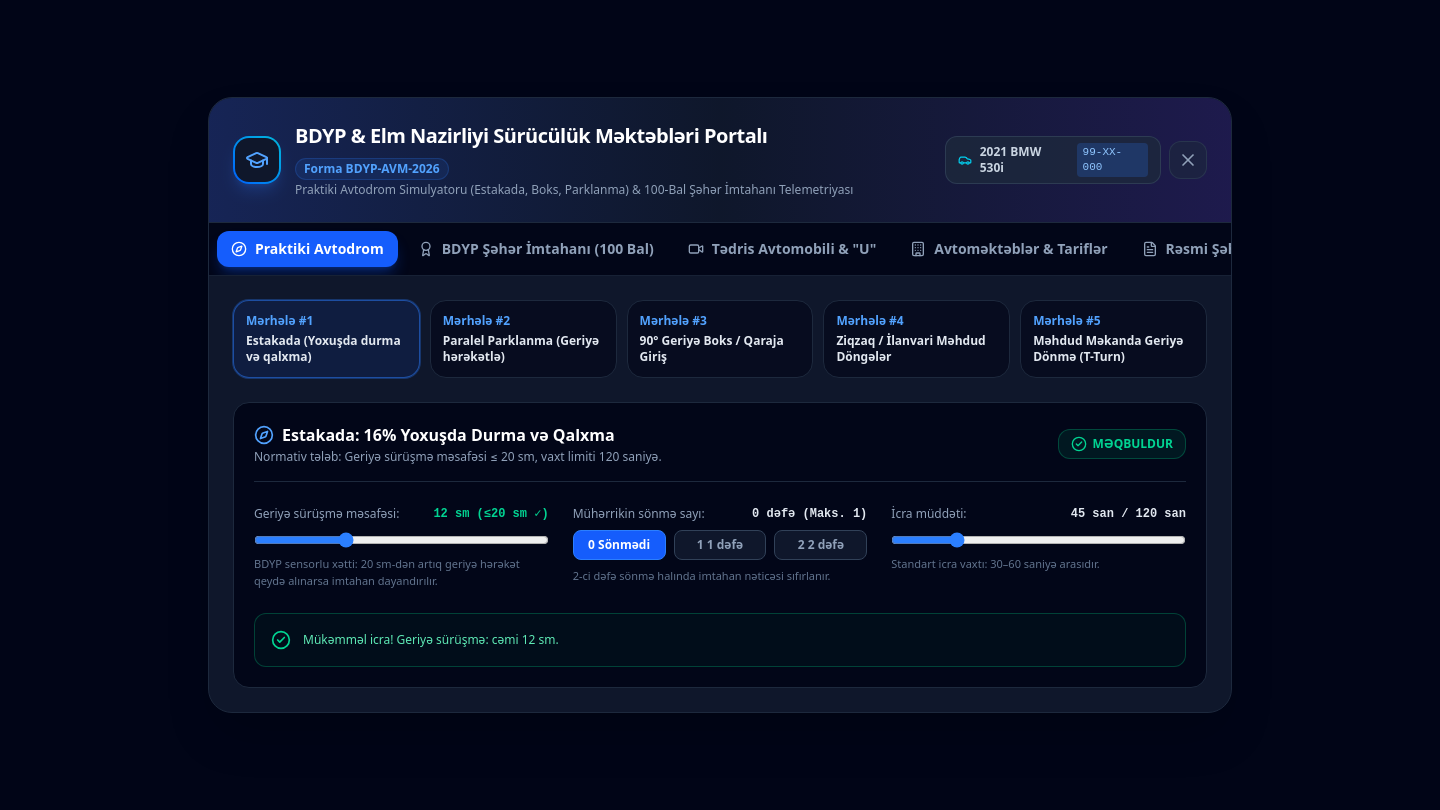
Test: DrivingSchoolModal Component › interacts with City Exam tab error items and updates score deductions
Click the button "BDYP Şəhər İmtahanı (100 Bal)". click: (536, 249)
box: [404,231,668,267]
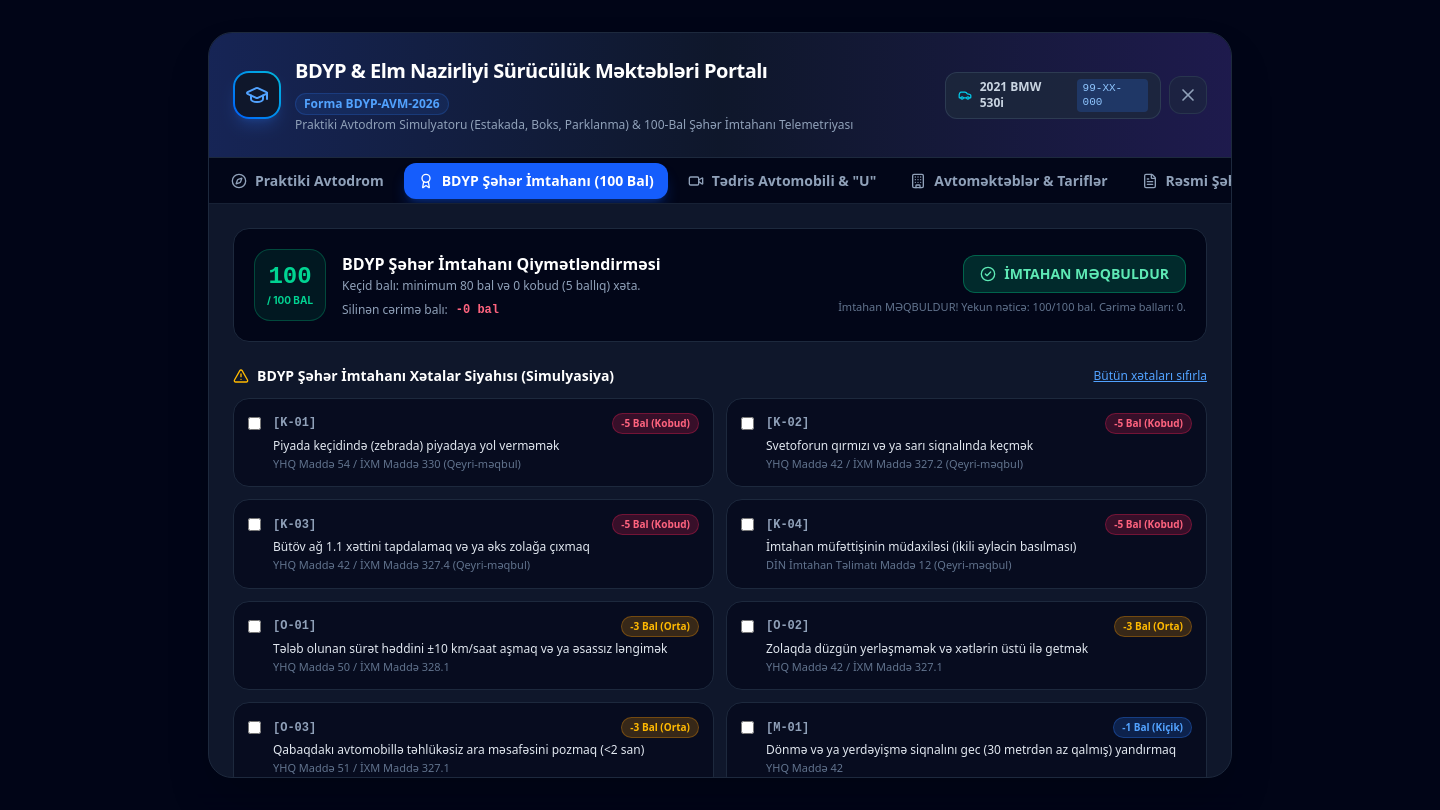
Now the text "100" is shown, box [268,261,312,293]
Click on critical error (zebra crossing)
Click the text "Piyada keçidində (zebrada) piyadaya yol verməmək". click: (416, 445)
box: [273,437,560,454]
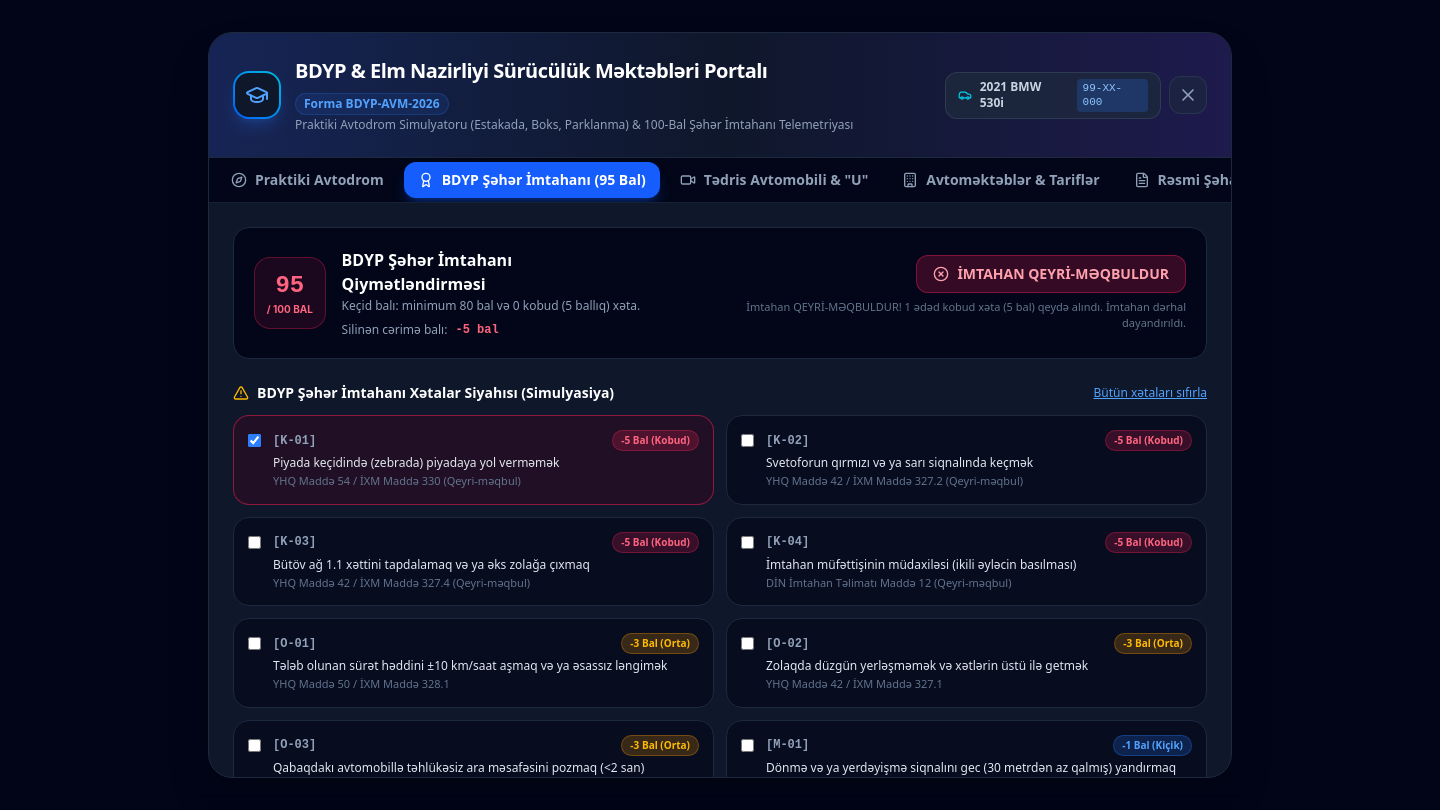
Now the text "95" is shown, box [275,270,304,302]
Now the text "İMTAHAN QEYRİ-MƏQBULDUR" is shown, box [916,255,1186,293]
Reset errors
Click the button "Bütün xətaları sıfırla". click: (1150, 393)
box: [1094,385,1207,401]
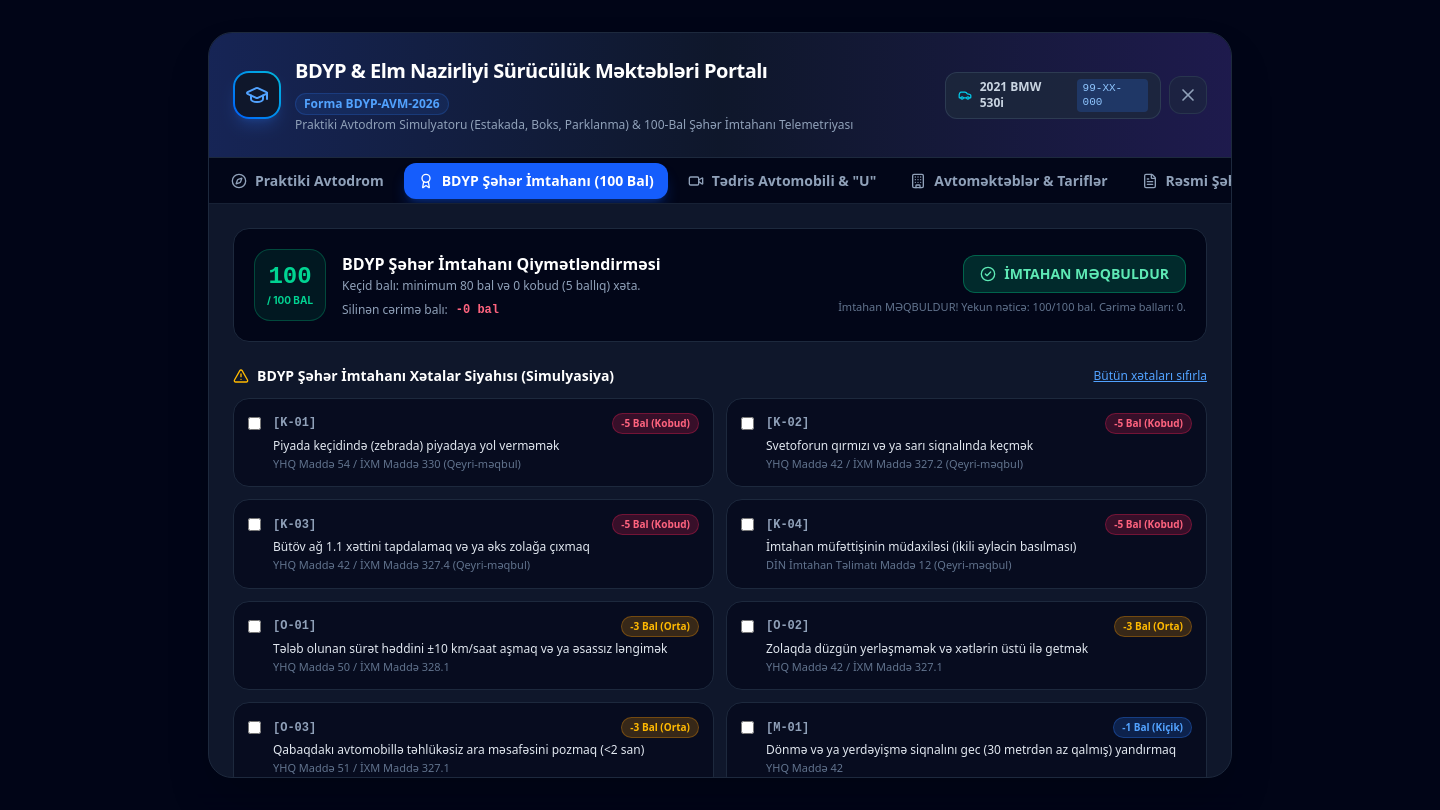
Now the text "100" is shown, box [268,261,312,293]
Now the text "İMTAHAN MƏQBULDUR" is shown, box [963,254,1186,292]
